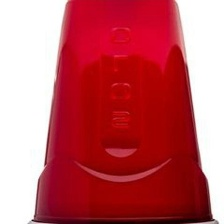glass: (25, 0, 224, 224)
